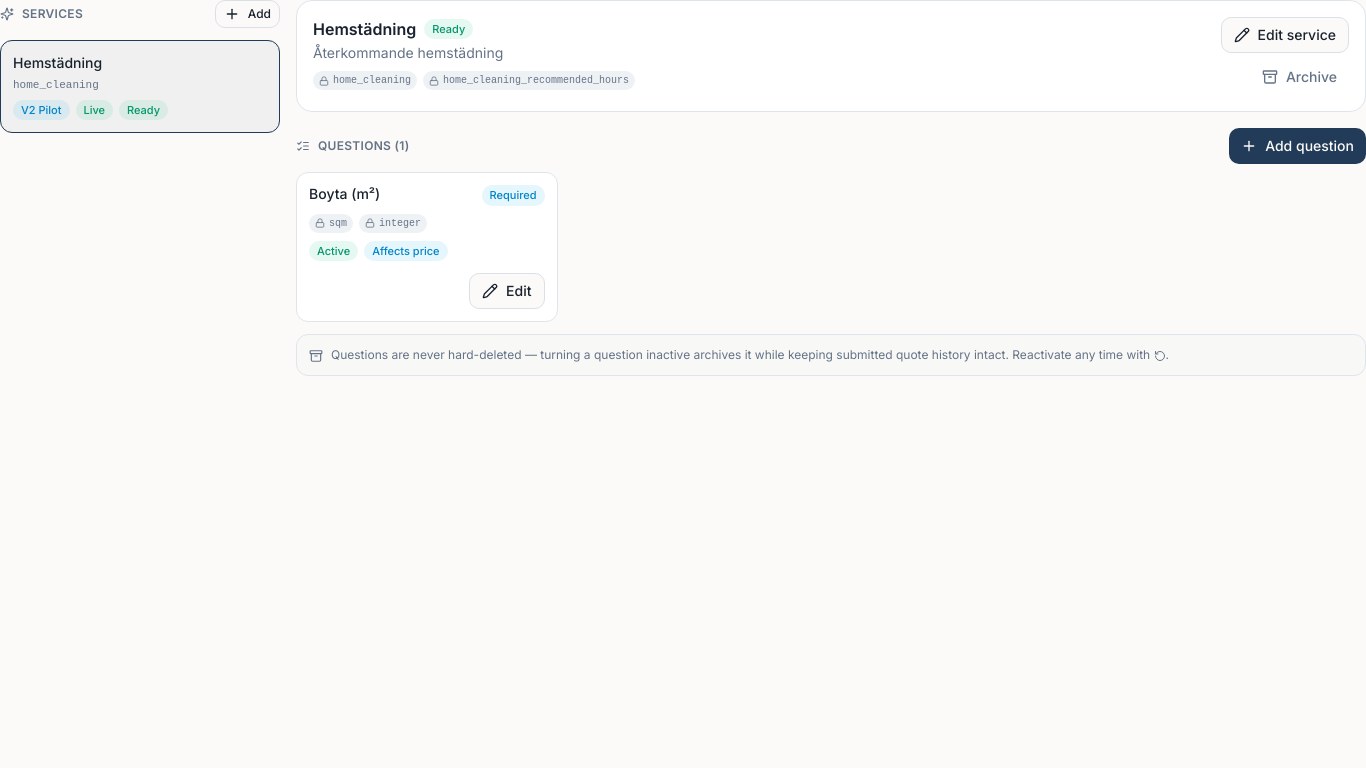
Test: ServicesFieldsEditor — add service (Slice 12C) › blocks a duplicate service key
Click the button "Add": (247, 14) [215,0,280,28]
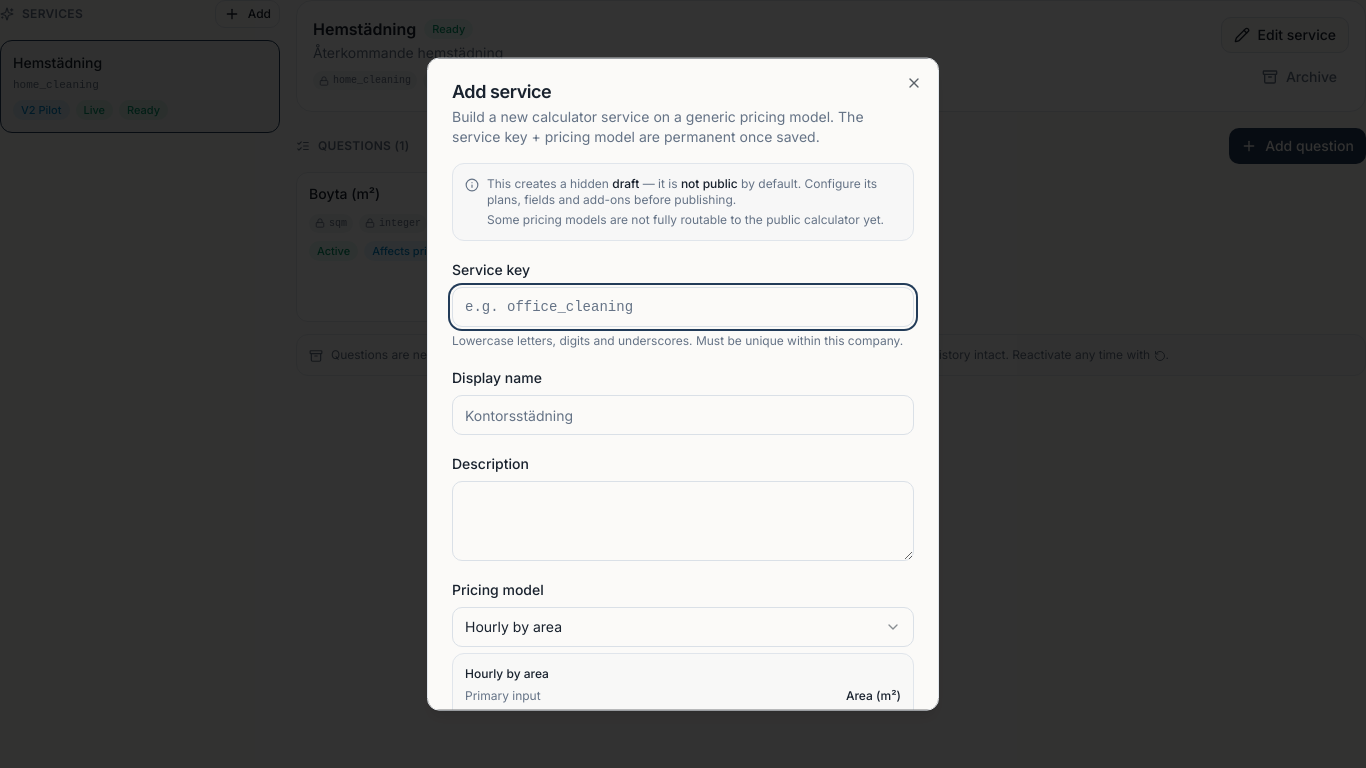
In the field labelled "Service key": (683, 307) [452,287,914,327], type "home_cleaning"
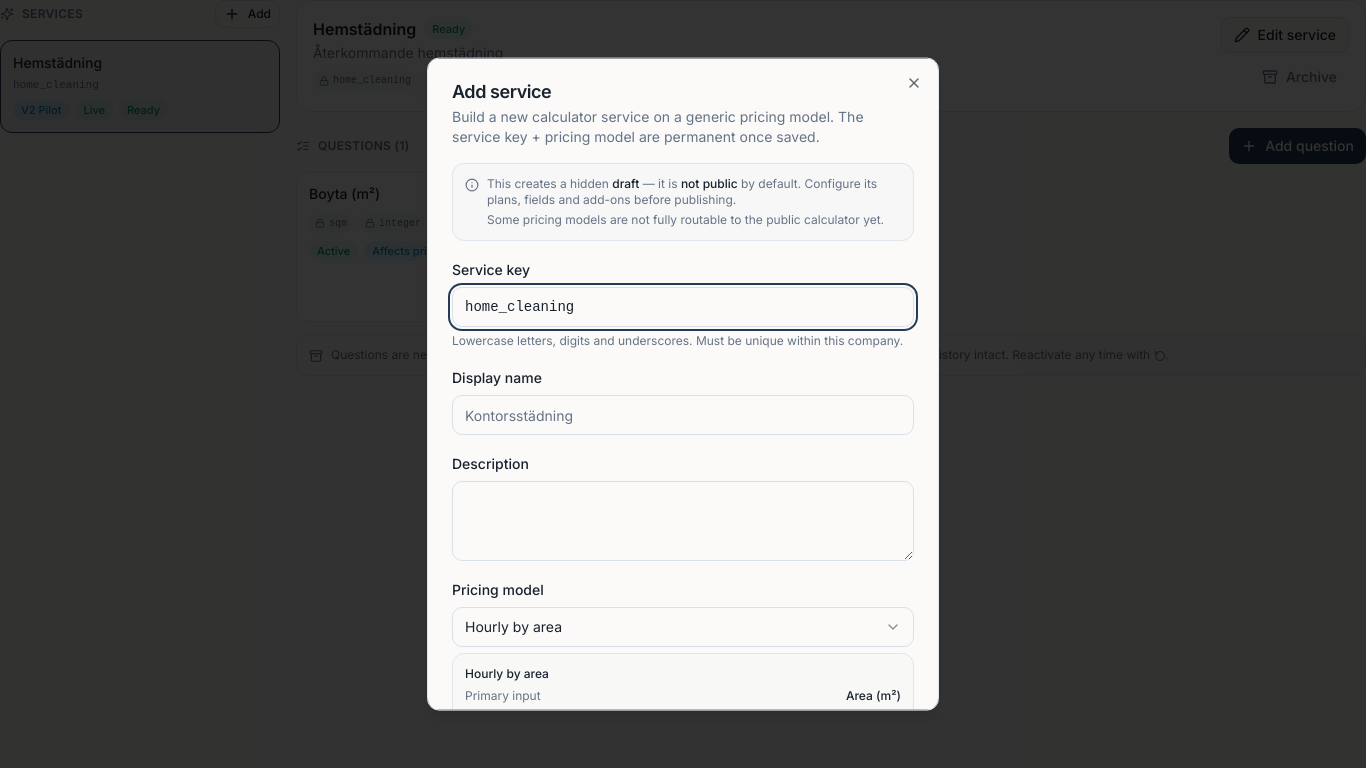
In the field labelled "Display name": (683, 415) [452,395,914,435], type "Dup"
(page scrolled)
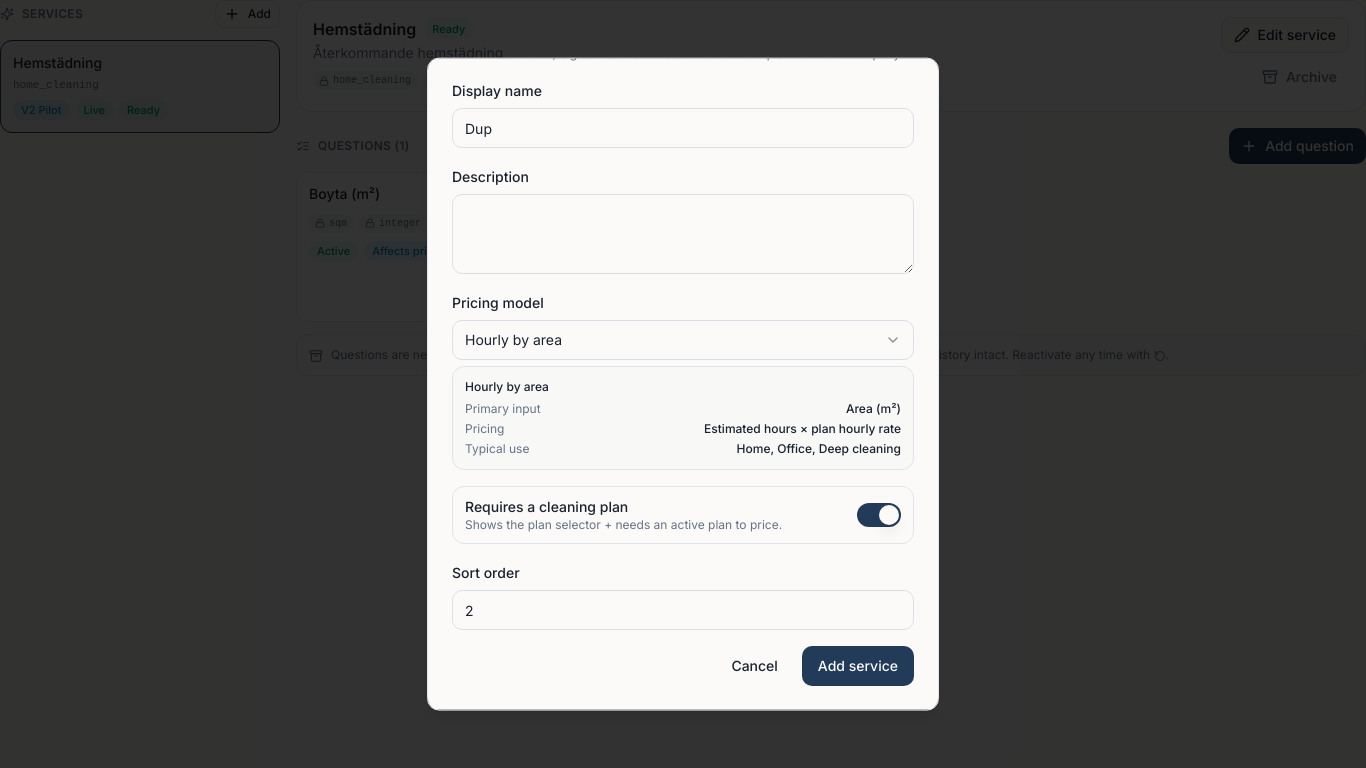
Click the button "Add service": (858, 666) [802,646,914,686]
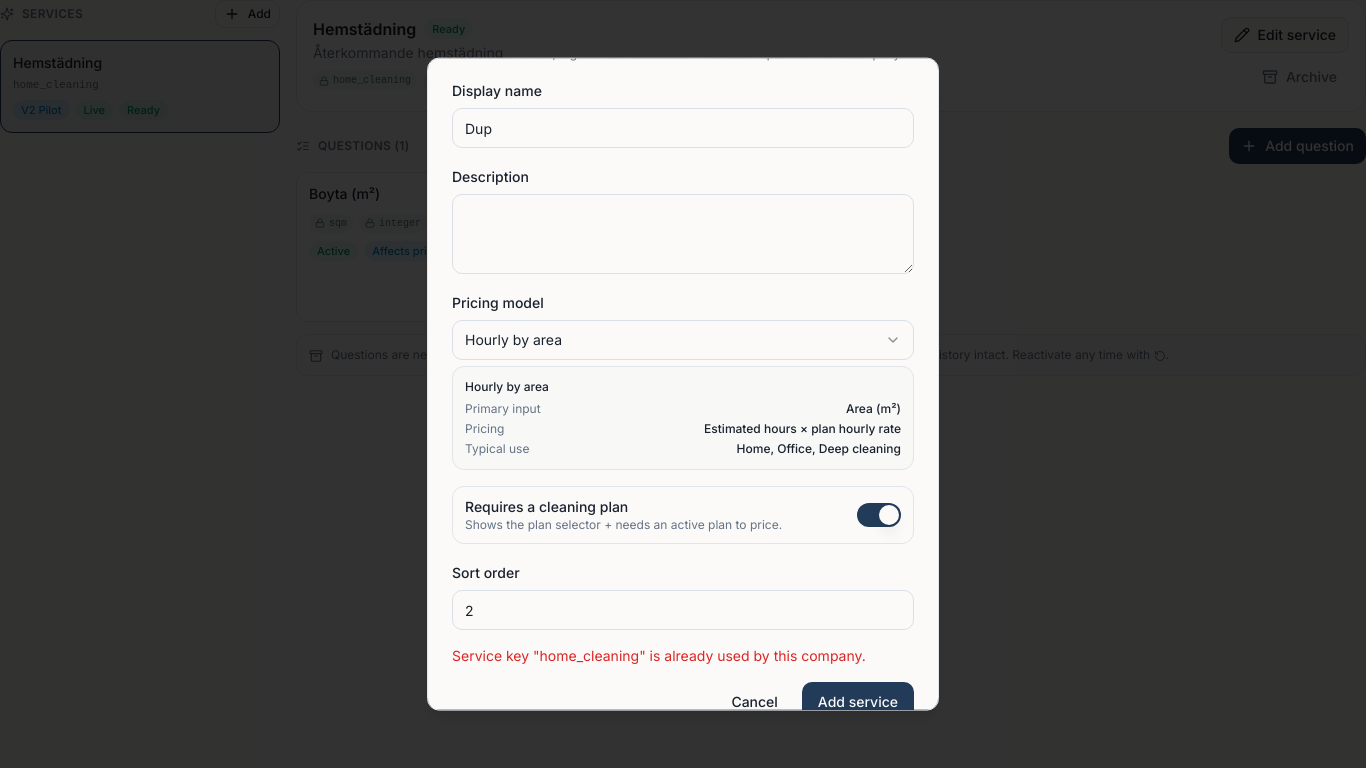
Result: the list item "Service key \"home_cleaning\" is already used by this company." is shown at [452,646,914,666]
